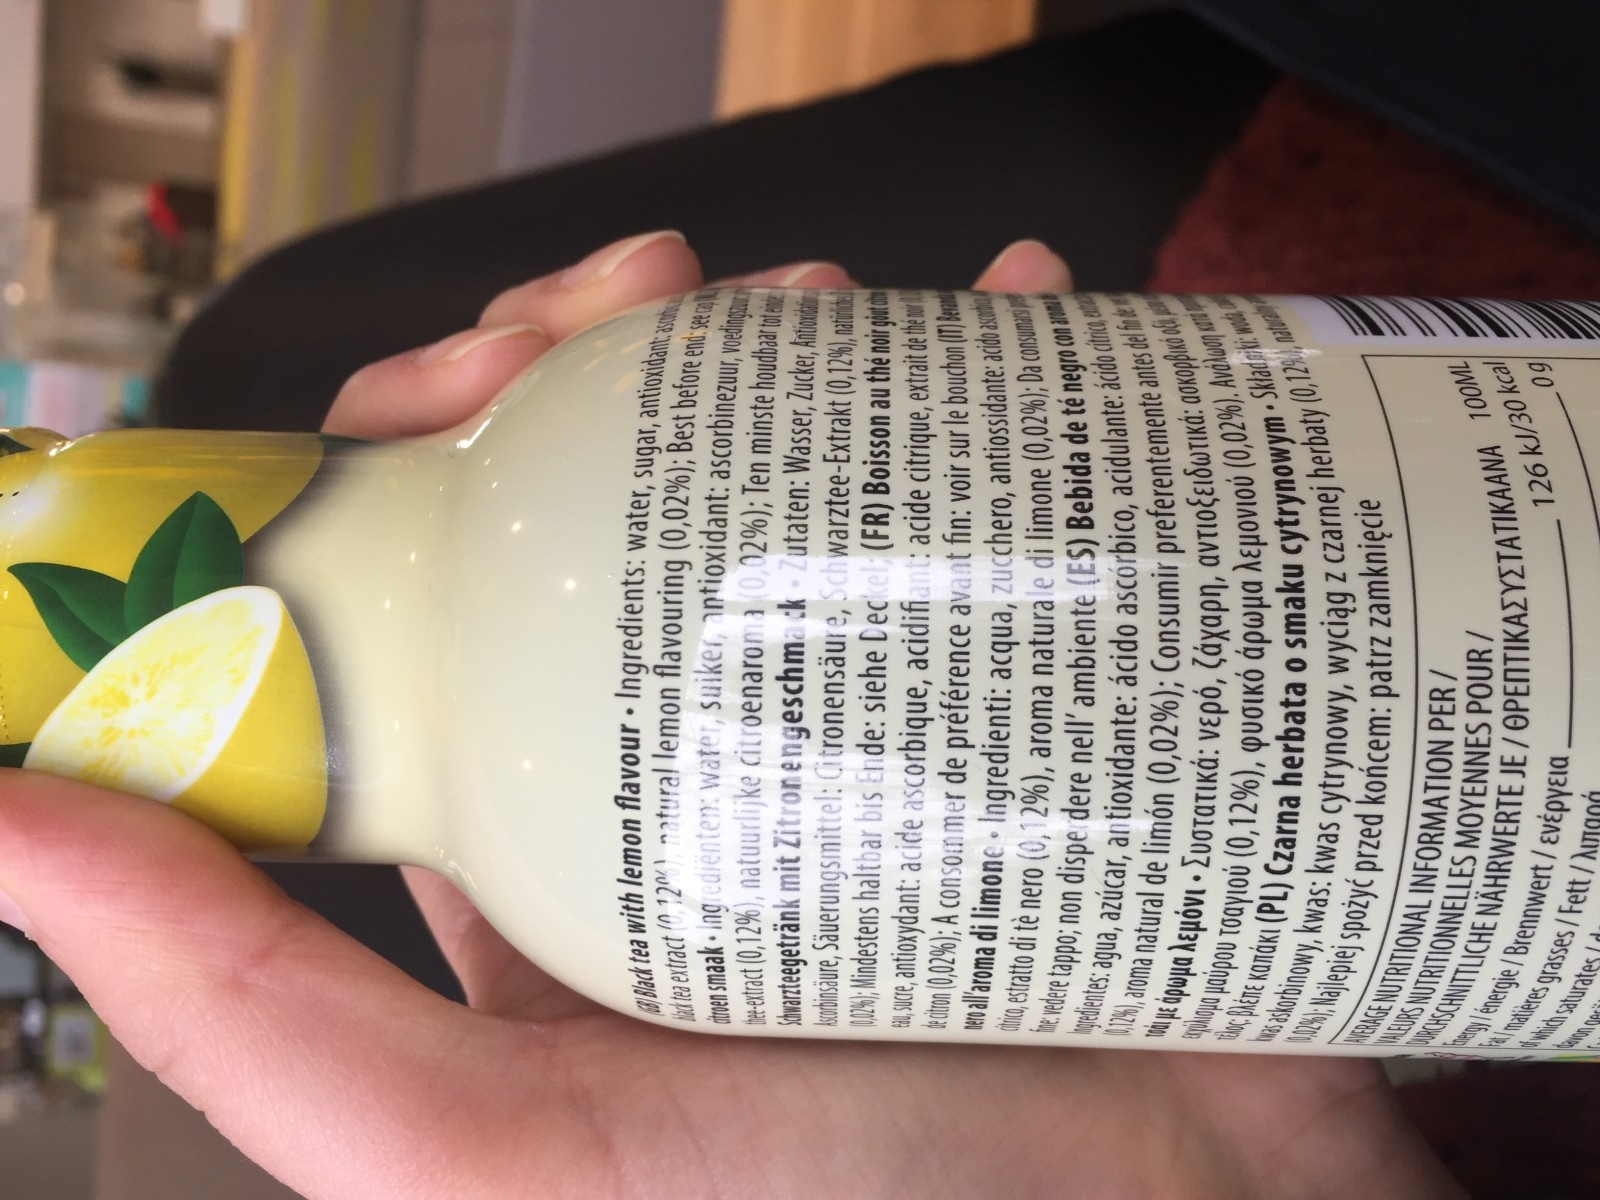ingredients: (598, 287, 1405, 1069)
